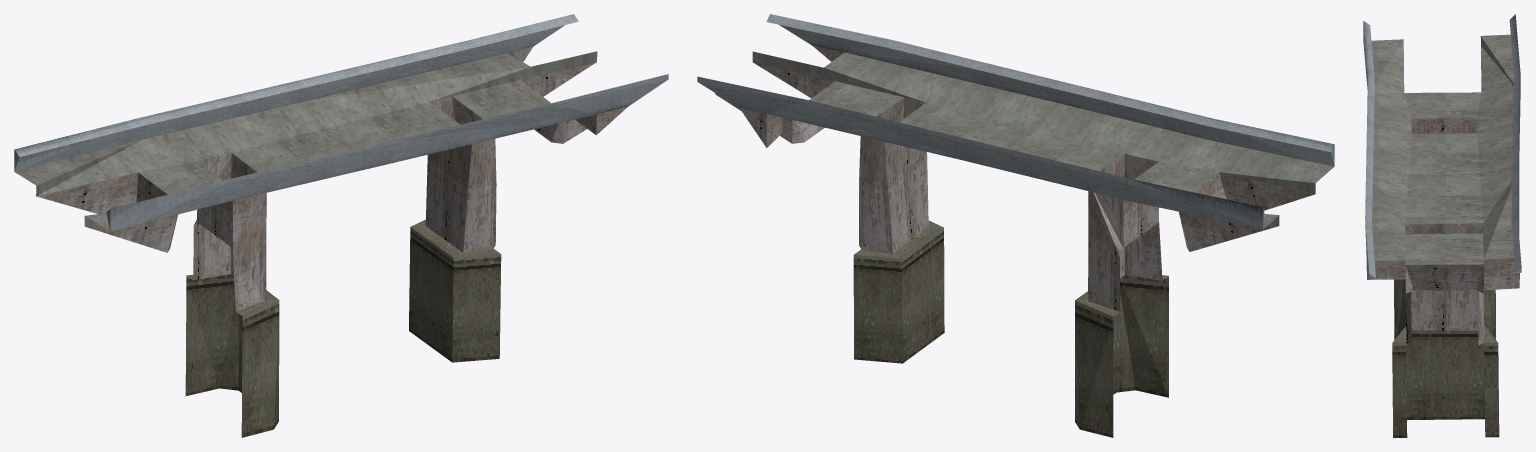
The model's file is lodce_bbridge.obj.
3 views of the same model, side by side, from view 1: azimuth 30°, elevation 25°; view 2: azimuth 150°, elevation 25°; view 3: azimuth 270°, elevation 25° (orthographic). The views are drawn at different scales.
Parts seen in each view (by area): view 1: LODCE_Bbridge; view 2: LODCE_Bbridge; view 3: LODCE_Bbridge.
Part boxes in pixels (bbox=[...]): LODCE_Bbridge: bbox=[14, 14, 668, 437]; LODCE_Bbridge: bbox=[697, 14, 1334, 437]; LODCE_Bbridge: bbox=[1363, 14, 1521, 437].
Size of the model in its own units: 111 by 51.36 by 29.03.
4 materials, 4 textured.
